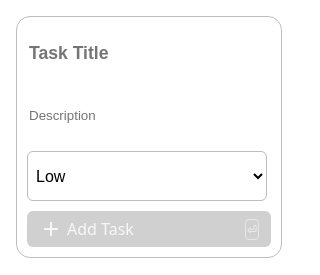
TaskForm › button is disabled if title or description is empty
Expected: the button "Add Task ⏎" is disabled, [27,211,271,247]
Type "Some Title" into the field with placeholder "Task Title".
click(149, 53); type("Some Title")  # box [27,27,271,79]
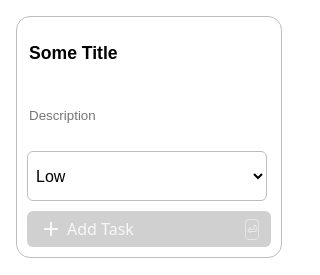
Expected: the button "Add Task ⏎" is disabled, [27,211,271,247]
Type "Some Desc" into the field with placeholder "Description".
click(149, 115); type("Some Desc")  # box [27,89,271,141]
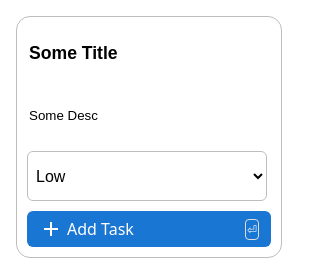
Now the button "Add Task ⏎" is enabled, box [27,211,271,247]
Clear the 1st field with placeholder "Task Title" at [149, 53], box [27,27,271,79]
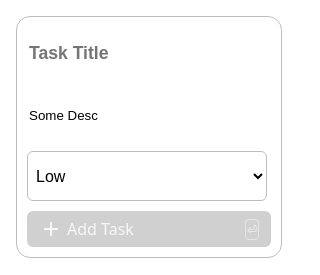
Now the button "Add Task ⏎" is disabled, box [27,211,271,247]
